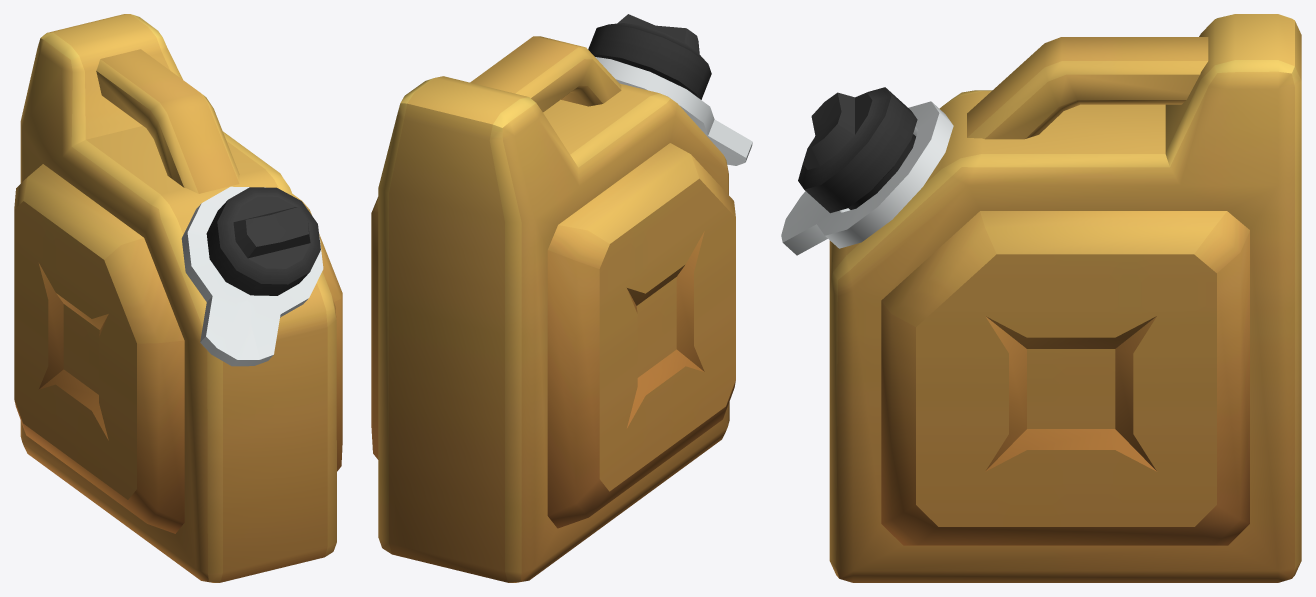
File: fuel_b_jerrycan.glb
3 views of the same model, side by side, from view 1: azimuth 30°, elevation 25°; view 2: azimuth 150°, elevation 25°; view 3: azimuth 270°, elevation 25° (orthographic). The views are drawn at different scales.
Visible parts, largest first — view 1: Fuel_B_Jerrycan; view 2: Fuel_B_Jerrycan; view 3: Fuel_B_Jerrycan.
Boxes of the visible parts, bbox=[...] form: Fuel_B_Jerrycan: bbox=[14, 14, 342, 582]; Fuel_B_Jerrycan: bbox=[371, 14, 752, 582]; Fuel_B_Jerrycan: bbox=[781, 14, 1301, 582].
Bounding box in the file's own units: 0.4001 × 0.78 × 0.7165.
Materials: 1 (1 with a texture image).
